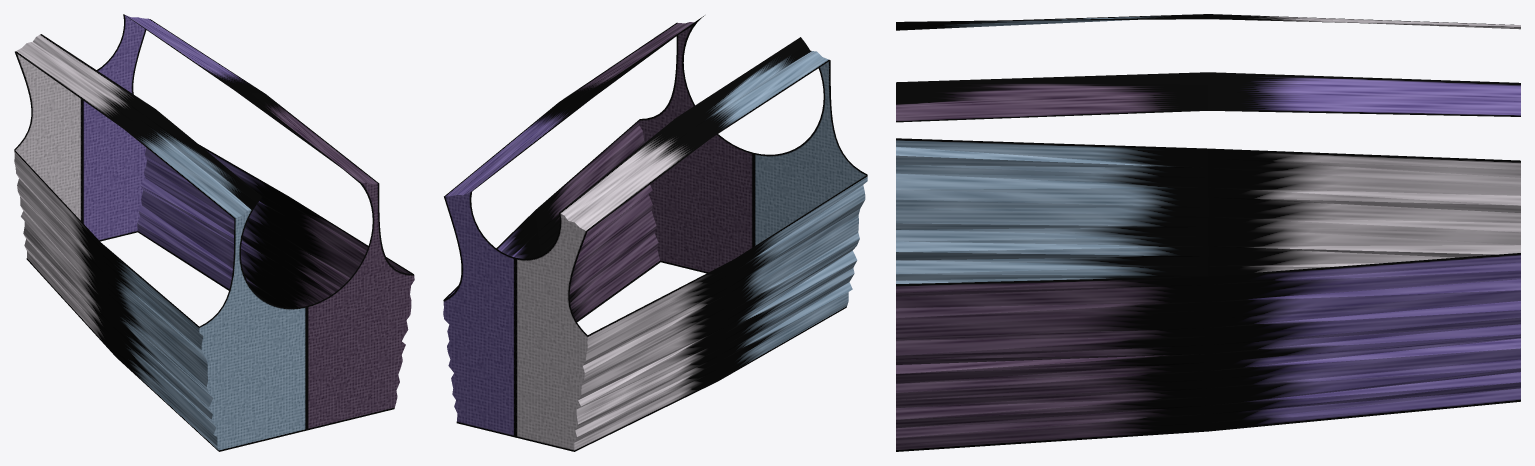
File: tank_knit_f3_boxmesh.obj
3 views of the same model, side by side, from view 1: azimuth 30°, elevation 25°; view 2: azimuth 150°, elevation 25°; view 3: azimuth 270°, elevation 25° (orthographic). The views are drawn at different scales.
Bounding box in the file's own units: 30.48 × 33.68 × 55.
1 material, 1 textured.
